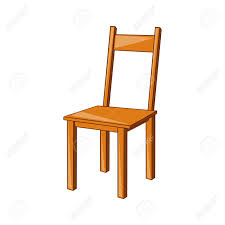tiyarina: (60, 20, 167, 202)
